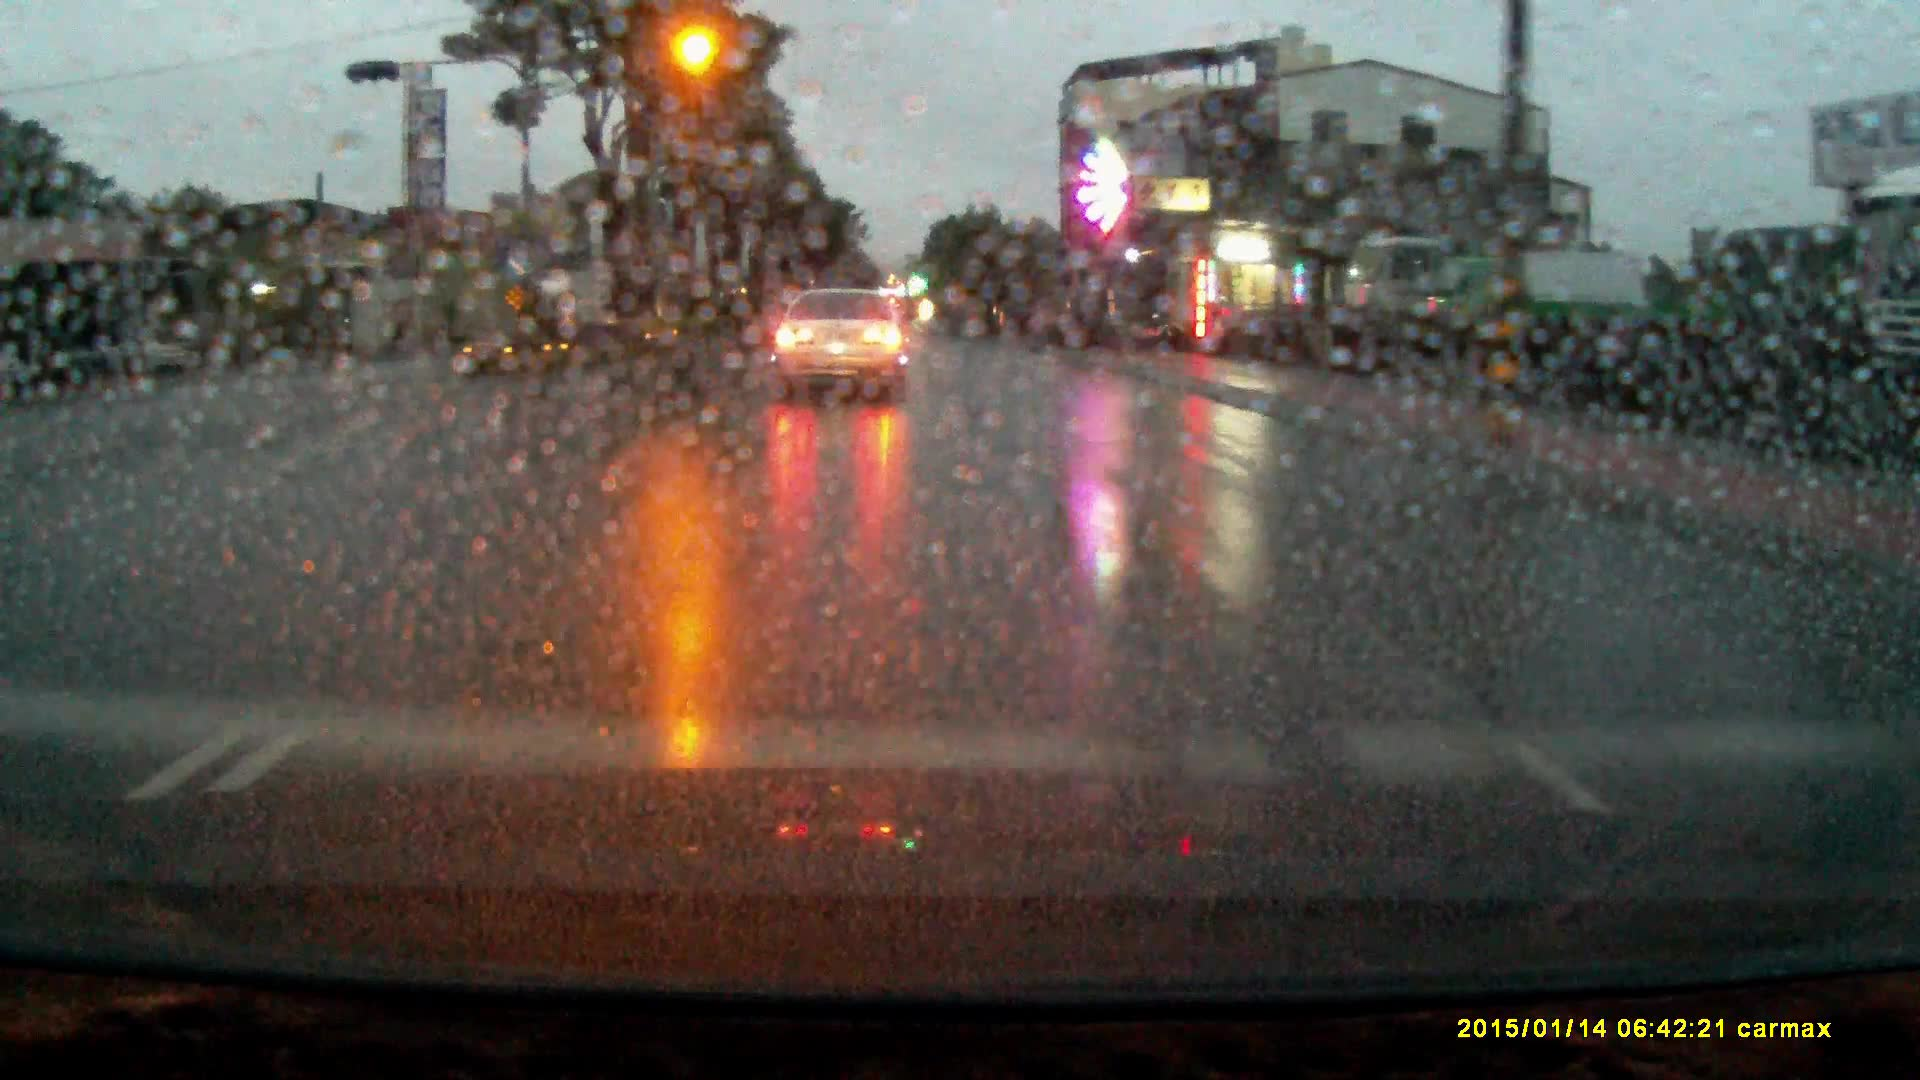vehicle: (1433, 251, 1654, 353), (1849, 164, 1920, 434), (775, 290, 916, 410), (1340, 232, 1470, 353), (538, 268, 608, 340)
